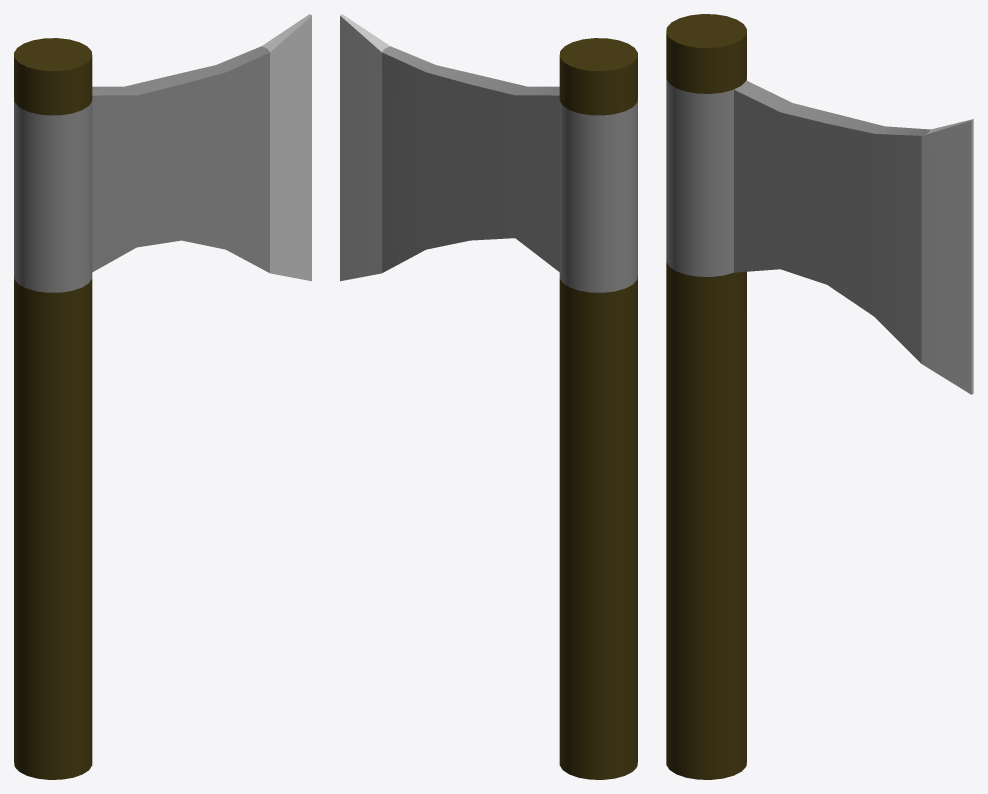
Rendered from Axe.fbx.
3 renders of one model, left to right at view 1: azimuth 30°, elevation 25°; view 2: azimuth 150°, elevation 25°; view 3: azimuth 330°, elevation 25°, orthographic. The views are drawn at different scales.
Parts seen in each view (by area): view 1: pCylinder2; view 2: pCylinder2; view 3: pCylinder2.
Part boxes in pixels (box(x1,y1,x2,y2)): pCylinder2: box(14, 14, 311, 779); pCylinder2: box(340, 14, 637, 779); pCylinder2: box(666, 14, 973, 779).
Size of the model in its own units: 4.19 by 9.73 by 0.9807.
